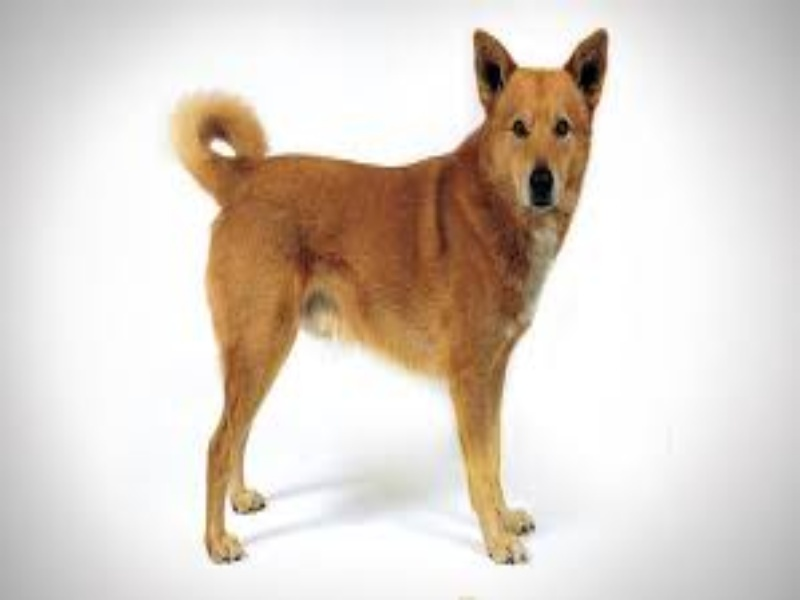dog: (74, 13, 678, 580)
